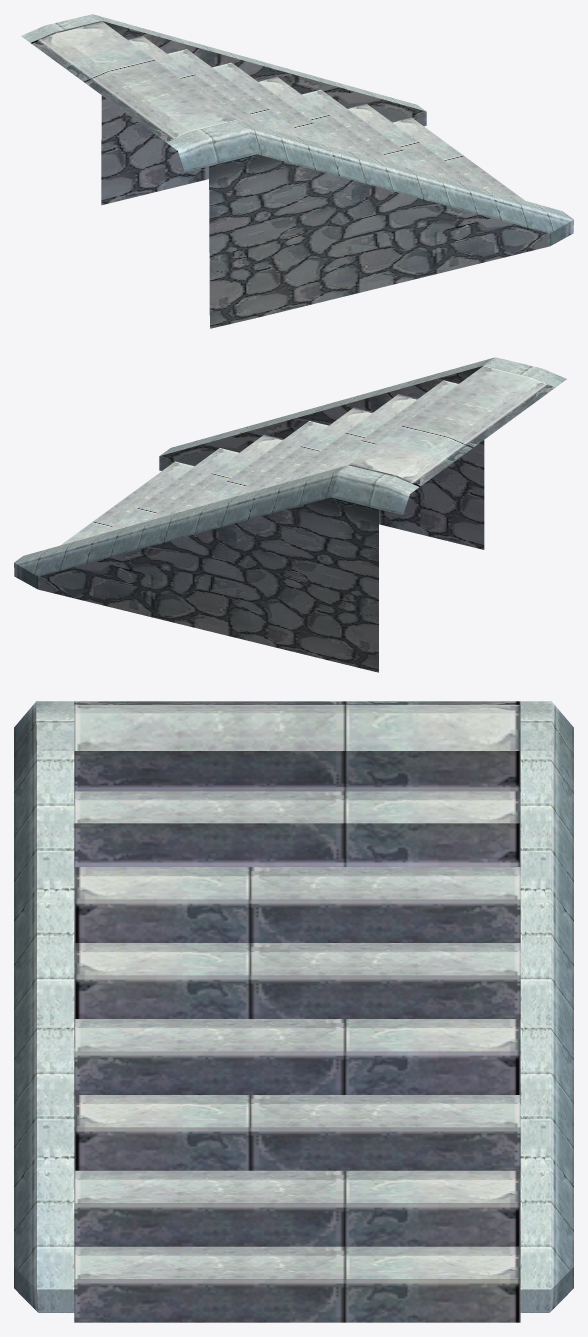
The picture shows the model from 3 angles, top to bottom: view 1: azimuth 30°, elevation 25°; view 2: azimuth 150°, elevation 25°; view 3: azimuth 270°, elevation 25°; orthographic projection. The views are drawn at different scales.
Parts seen in each view (by area): view 1: geom_node_0; view 2: geom_node_0; view 3: geom_node_0.
Boxes of the visible parts, <box> form: geom_node_0: <box>21,14,573,328</box>; geom_node_0: <box>14,357,566,672</box>; geom_node_0: <box>14,701,573,1322</box>.
Size of the model in its own units: 4.43 by 2.09 by 3.3.
1 material, 1 textured.
